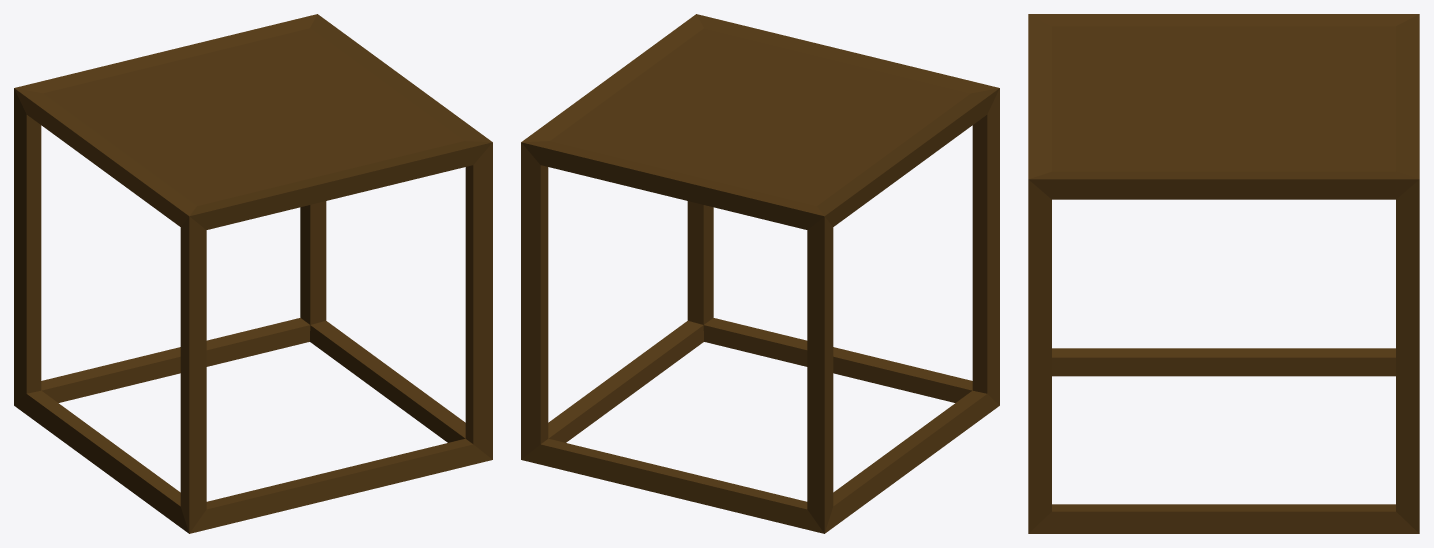
Rendered from TowerBaseShort.fbx.
The picture shows the model from 3 angles, left to right: view 1: azimuth 30°, elevation 25°; view 2: azimuth 150°, elevation 25°; view 3: azimuth 270°, elevation 25°; orthographic projection. The views are drawn at different scales.
Parts seen in each view (by area): view 1: Cube.002; view 2: Cube.002; view 3: Cube.002.
Part boxes in pixels (bbox=[...]): Cube.002: bbox=[14, 14, 492, 533]; Cube.002: bbox=[521, 14, 999, 533]; Cube.002: bbox=[1028, 14, 1419, 533].
Bounding box in the file's own units: 1061 × 1061 × 1061.
